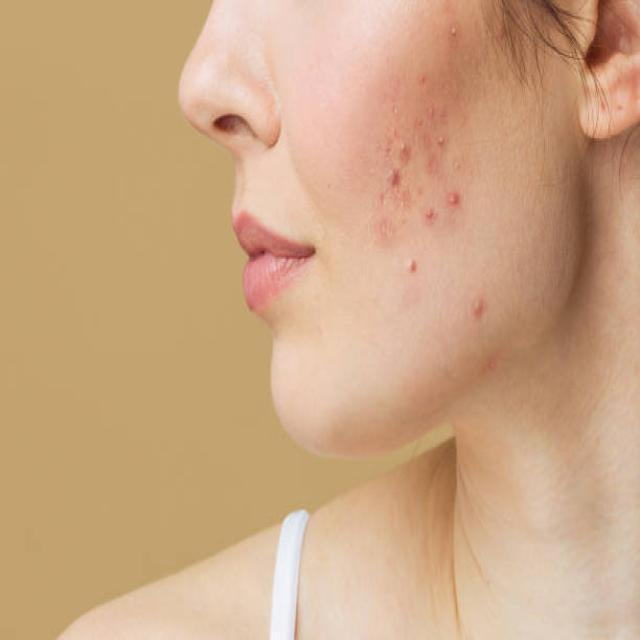Acne: (387, 19, 498, 325)
